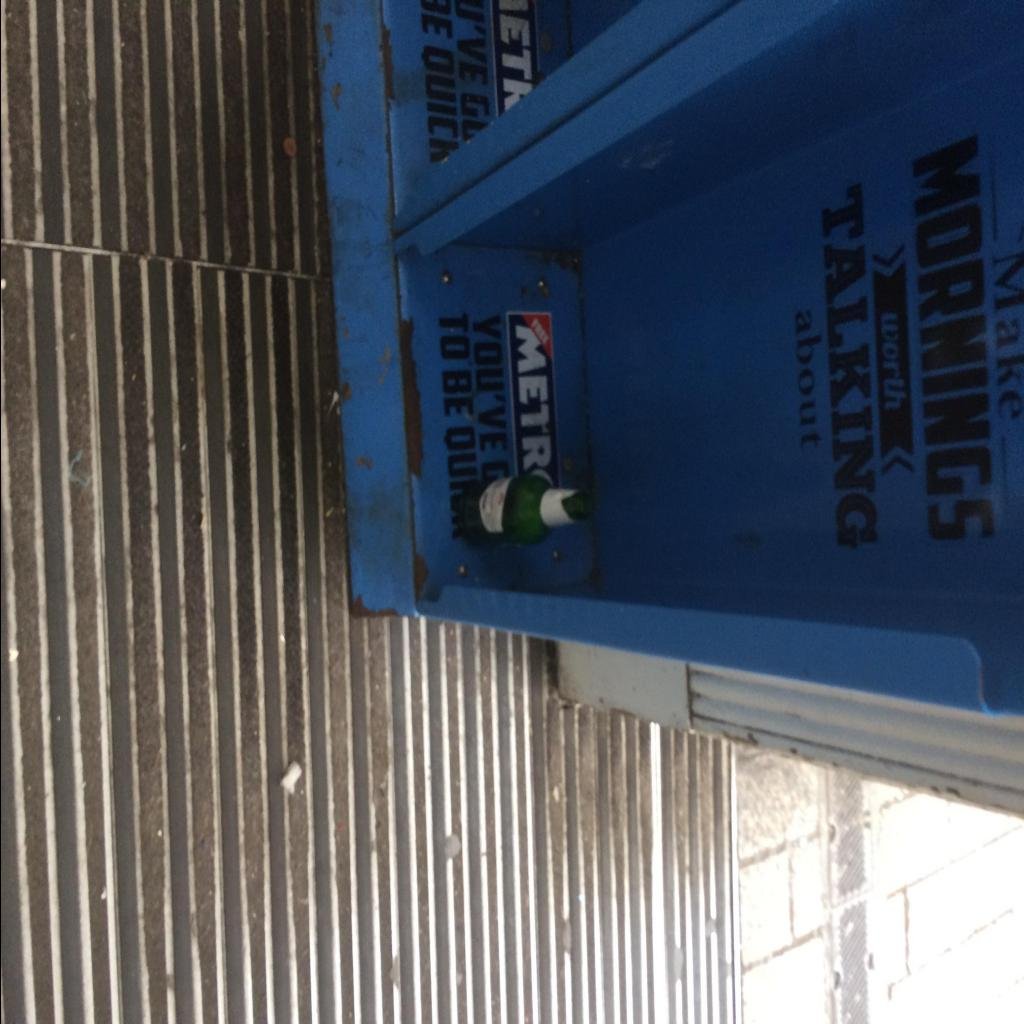Glass bottle: (458, 475, 596, 549)
Unlabeled litter: (278, 760, 304, 795)
